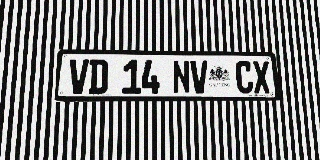1: (122, 60, 141, 94)
4: (141, 60, 160, 94)
C: (235, 61, 254, 94)
D: (88, 59, 108, 94)
N: (172, 60, 190, 94)
V: (68, 59, 89, 94), (190, 60, 209, 94)
X: (252, 61, 271, 93)
